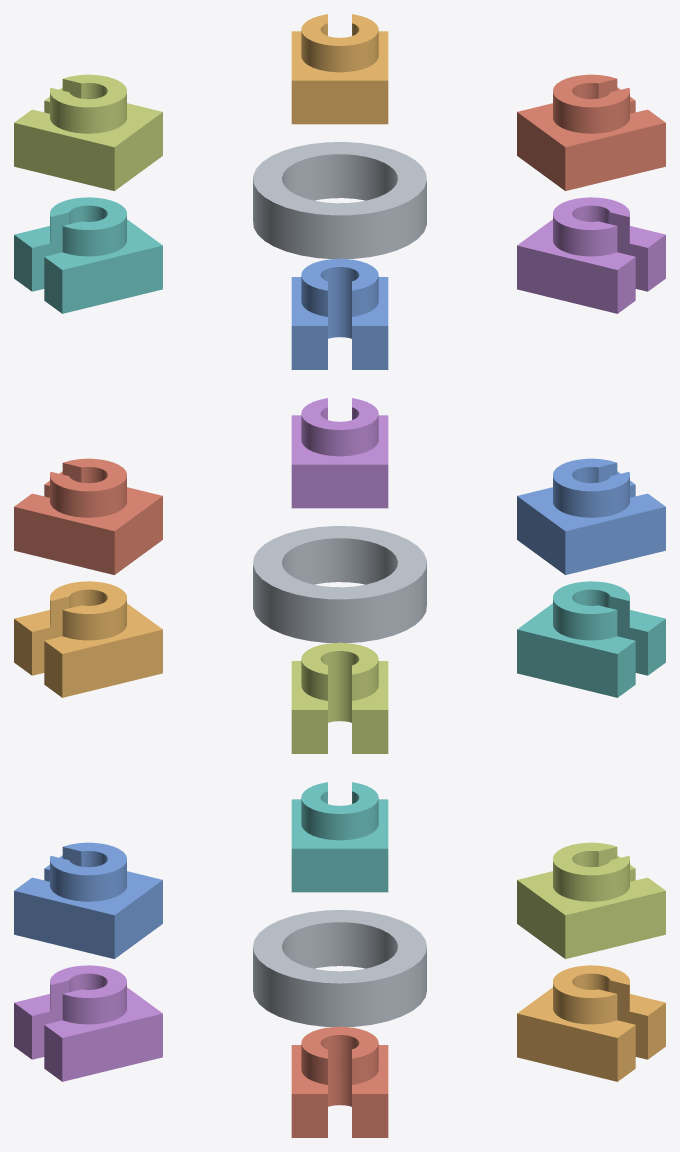
Rendered from circular_csg_array.glb.
3 views of the same model, one above another, from view 1: azimuth 30°, elevation 25°; view 2: azimuth 150°, elevation 25°; view 3: azimuth 270°, elevation 25° (orthographic).
Visible parts, largest first — view 1: collar, clamp_3__body, clamp_5__body, clamp_0__body, clamp_2__body, clamp_1__body, clamp_4__body; view 2: collar, clamp_1__body, clamp_3__body, clamp_0__body, clamp_4__body, clamp_5__body, clamp_2__body; view 3: collar, clamp_1__body, clamp_5__body, clamp_2__body, clamp_4__body, clamp_3__body, clamp_0__body.
Boxes of the visible parts, x1=… form: collar: x1=253, y1=142, x2=426, y2=258; clamp_3__body: x1=14, y1=197, x2=162, y2=313; clamp_5__body: x1=517, y1=197, x2=665, y2=313; clamp_0__body: x1=517, y1=74, x2=665, y2=190; clamp_2__body: x1=14, y1=74, x2=162, y2=190; clamp_1__body: x1=291, y1=14, x2=388, y2=124; clamp_4__body: x1=291, y1=258, x2=388, y2=369; collar: x1=253, y1=526, x2=426, y2=642; clamp_1__body: x1=14, y1=581, x2=162, y2=697; clamp_3__body: x1=517, y1=581, x2=665, y2=697; clamp_0__body: x1=14, y1=458, x2=162, y2=574; clamp_4__body: x1=517, y1=458, x2=665, y2=574; clamp_5__body: x1=291, y1=398, x2=388, y2=508; clamp_2__body: x1=291, y1=642, x2=388, y2=753; collar: x1=253, y1=910, x2=426, y2=1026; clamp_1__body: x1=517, y1=965, x2=665, y2=1081; clamp_5__body: x1=14, y1=965, x2=162, y2=1081; clamp_2__body: x1=517, y1=842, x2=665, y2=958; clamp_4__body: x1=14, y1=842, x2=162, y2=958; clamp_3__body: x1=291, y1=782, x2=388, y2=892; clamp_0__body: x1=291, y1=1026, x2=388, y2=1137.
Bounding box in the file's own units: 72 × 8 × 67.35.
